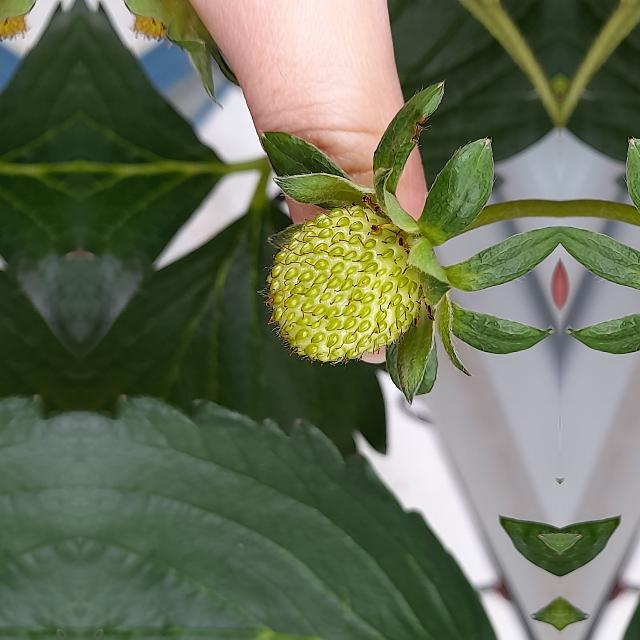Health_25: (256, 202, 422, 368)
